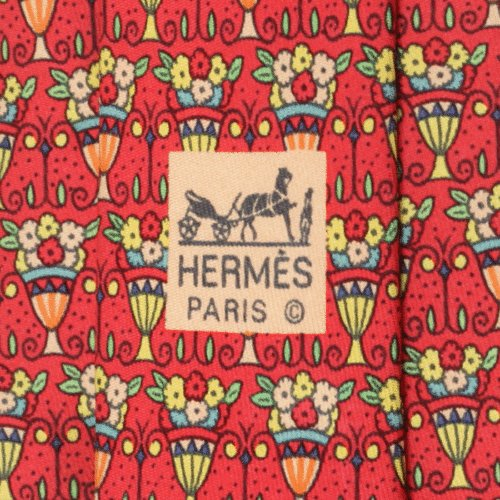HERMES: (174, 161, 321, 327)
